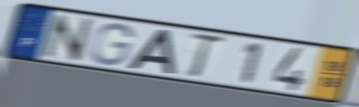1: (241, 42, 265, 85)
4: (272, 46, 305, 93)
A: (125, 28, 176, 75)
G: (88, 21, 136, 67)
N: (41, 12, 96, 63)
T: (188, 32, 227, 80)
